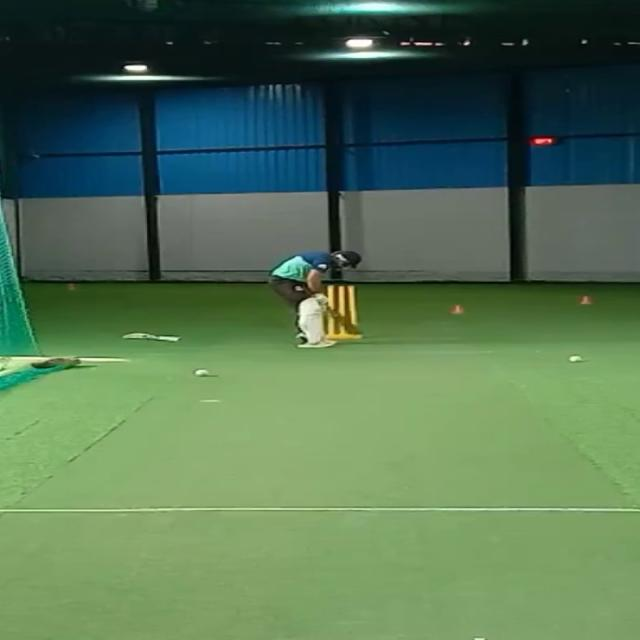ball: (188, 363, 220, 383), (560, 347, 588, 367)
stump: (324, 280, 365, 339)
